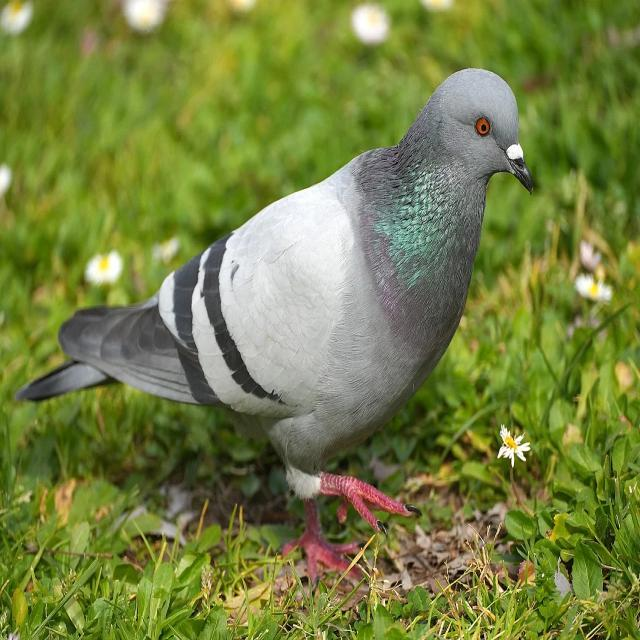pegion: (27, 30, 541, 542)
